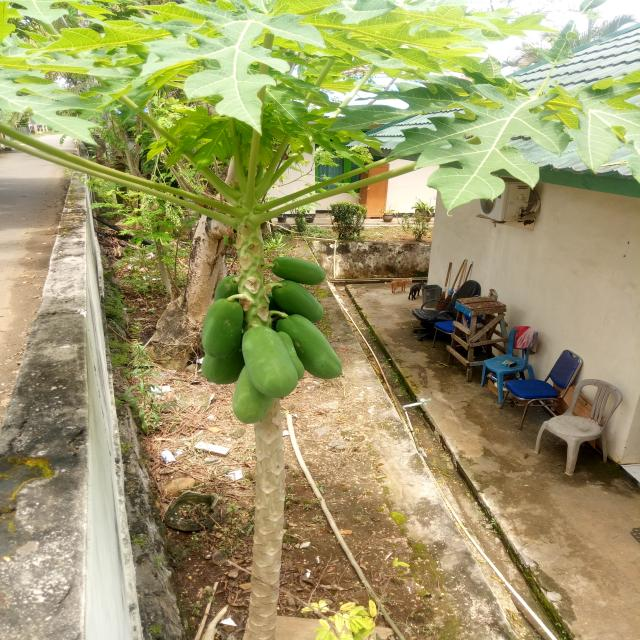Pepaya unrippen: (241, 318, 295, 393), (287, 315, 345, 378), (282, 283, 332, 326), (203, 300, 237, 358), (227, 384, 272, 424), (273, 254, 328, 286)
